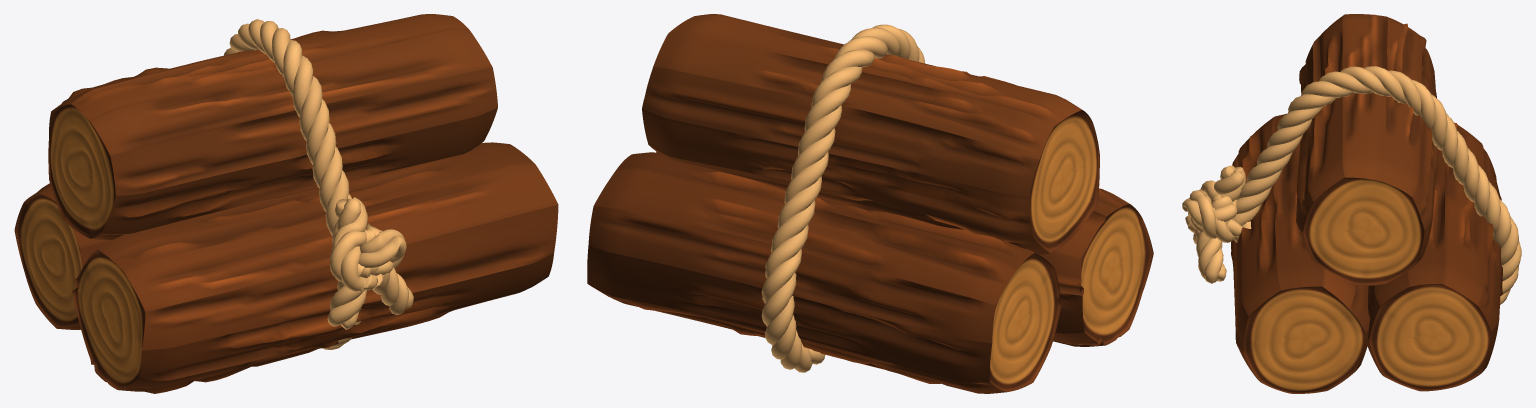
The model's file is wood_bundle_v3.glb.
The picture shows the model from 3 angles, left to right: view 1: azimuth 30°, elevation 25°; view 2: azimuth 150°, elevation 25°; view 3: azimuth 270°, elevation 25°; orthographic projection. The views are drawn at different scales.
Parts seen in each view (by area): view 1: Lower log | knot side, Crown log, One flax lashing | continuous perimeter, Lower log | far side, Hitch | left tail, Hitch | right tail; view 2: Lower log | far side, Crown log, One flax lashing | continuous perimeter, Lower log | knot side; view 3: Crown log, Lower log | knot side, Lower log | far side, One flax lashing | continuous perimeter, Hitch | right tail, Hitch | left tail.
Boxes of the visible parts, x1=… form: Lower log | knot side: x1=72, y1=142, x2=558, y2=393; Crown log: x1=48, y1=14, x2=497, y2=240; One flax lashing | continuous perimeter: x1=224, y1=19, x2=361, y2=349; Lower log | far side: x1=14, y1=183, x2=112, y2=329; Hitch | left tail: x1=327, y1=197, x2=393, y2=329; Hitch | right tail: x1=358, y1=229, x2=413, y2=314; Lower log | far side: x1=587, y1=152, x2=1061, y2=393; Crown log: x1=642, y1=14, x2=1099, y2=254; One flax lashing | continuous perimeter: x1=761, y1=24, x2=925, y2=372; Lower log | knot side: x1=656, y1=151, x2=1153, y2=346; Crown log: x1=1296, y1=14, x2=1436, y2=285; Lower log | knot side: x1=1231, y1=113, x2=1369, y2=393; Lower log | far side: x1=1367, y1=122, x2=1502, y2=391; One flax lashing | continuous perimeter: x1=1232, y1=66, x2=1521, y2=304; Hitch | right tail: x1=1182, y1=190, x2=1242, y2=283; Hitch | left tail: x1=1185, y1=165, x2=1245, y2=248.
Size of the model in its own units: 1.9 by 1.26 by 1.51.
